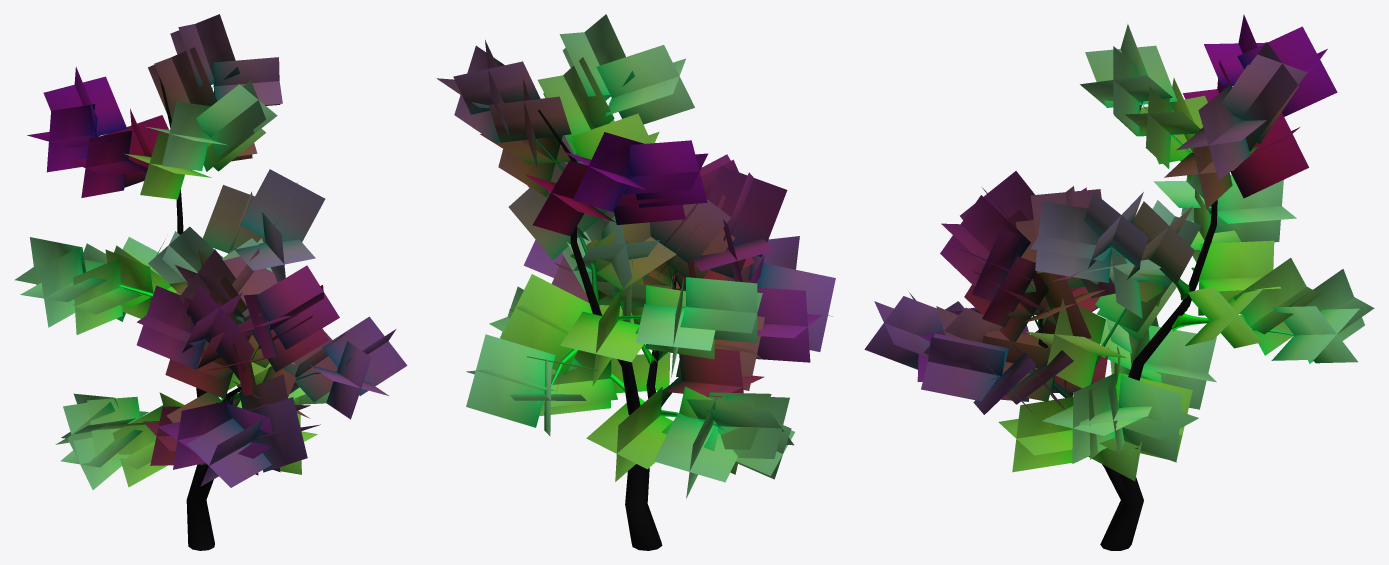
Rendered from URP_P3_Tree_6_LOD_2.fbx.
3 renders of one model, left to right at view 1: azimuth 30°, elevation 25°; view 2: azimuth 150°, elevation 25°; view 3: azimuth 270°, elevation 25°, orthographic. The views are drawn at different scales.
Parts seen in each view (by area): view 1: Tree_6_LOD_2; view 2: Tree_6_LOD_2; view 3: Tree_6_LOD_2.
Boxes of the visible parts, <box> form: Tree_6_LOD_2: <box>15,14,407,550</box>; Tree_6_LOD_2: <box>436,14,835,550</box>; Tree_6_LOD_2: <box>864,14,1374,550</box>.
Bounding box in the file's own units: 560 × 876 × 757.
